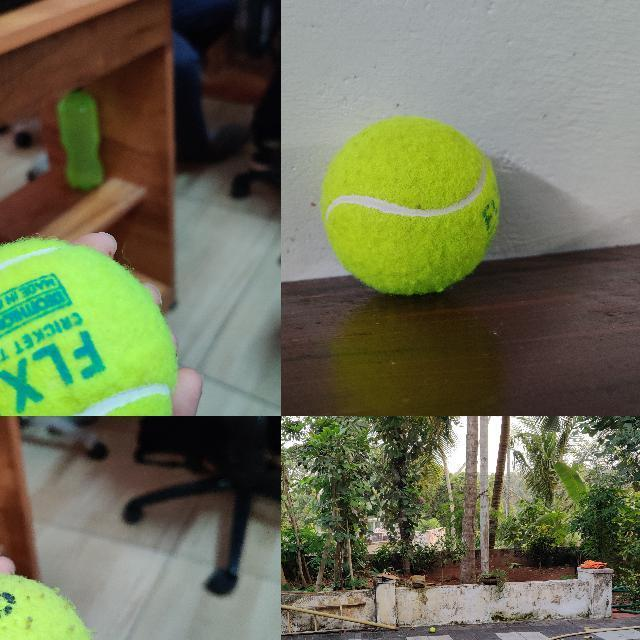tennis-ball: (319, 116, 500, 295), (0, 239, 177, 415), (429, 628, 435, 633)
